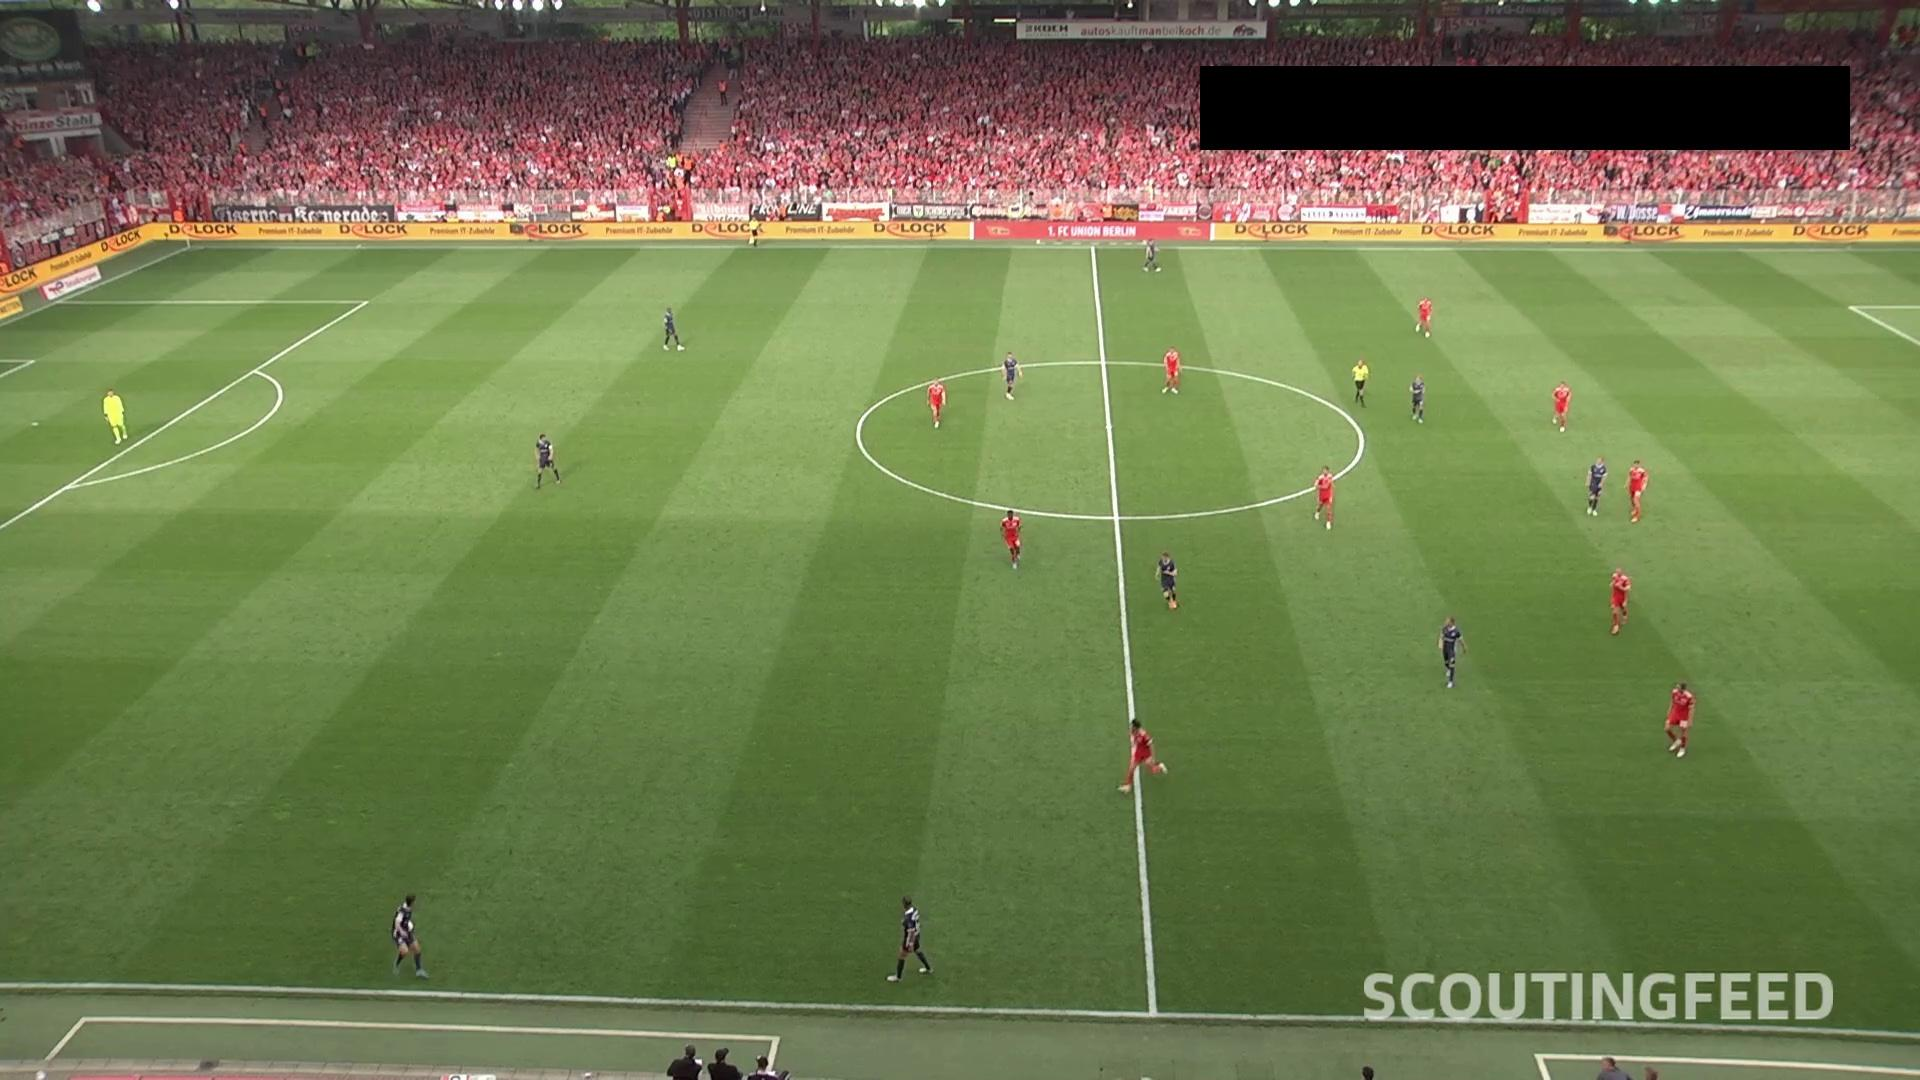Location-of-ball: (1156, 592, 1184, 615)
